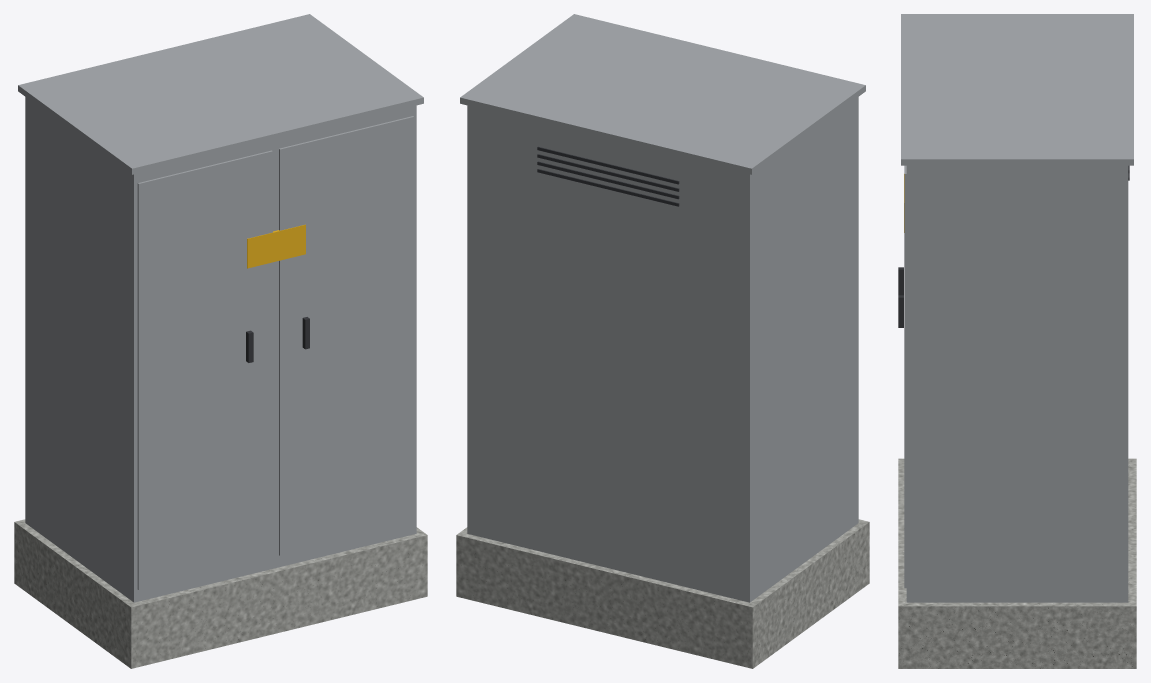
The picture shows the model from 3 angles, left to right: view 1: azimuth 30°, elevation 25°; view 2: azimuth 150°, elevation 25°; view 3: azimuth 270°, elevation 25°; orthographic projection.
Parts seen in each view (by area): view 1: baseOffset=0;depth=0.8;height=2;material=steel_galv;power=;s (×3); view 2: baseOffset=0;depth=0.8;height=2;material=steel_galv;power=;s (×3); view 3: baseOffset=0;depth=0.8;height=2;material=steel_galv;power=;s (×3).
Boxes of the visible parts, x1,y1,x2,y2 form: baseOffset=0;depth=0.8;height=2;material=steel_galv;power=;s (×3): (14, 14, 427, 668); baseOffset=0;depth=0.8;height=2;material=steel_galv;power=;s (×3): (456, 14, 869, 668); baseOffset=0;depth=0.8;height=2;material=steel_galv;power=;s (×3): (898, 14, 1136, 668).
Bounding box in the file's own units: 1.26 × 0.86 × 2.03.
Materials: 4 (1 with a texture image).
